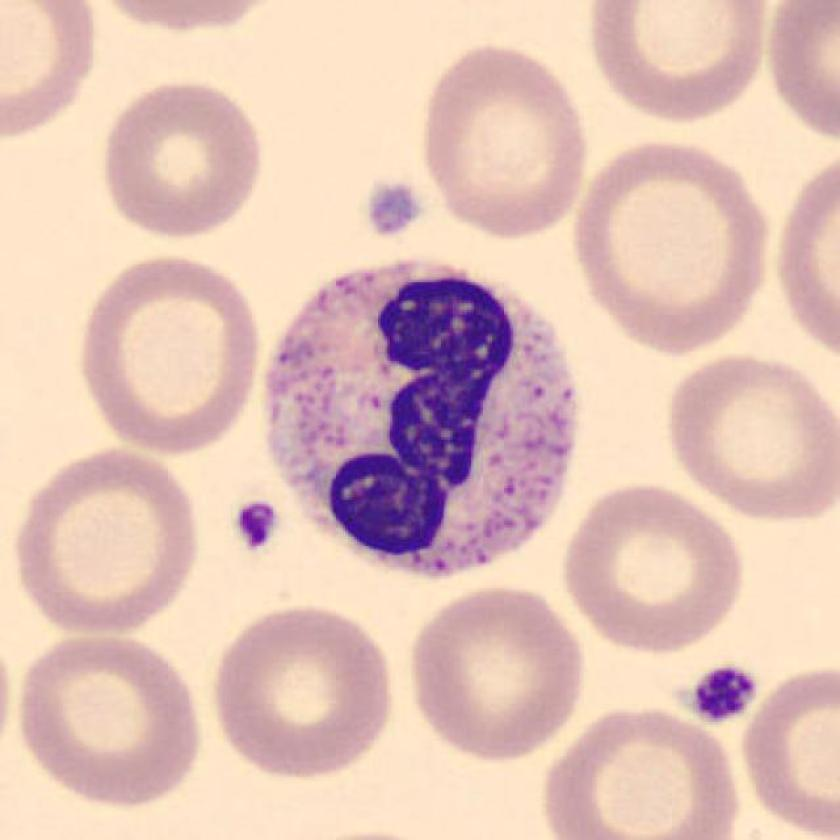neutrophil: (268, 256, 578, 575)
